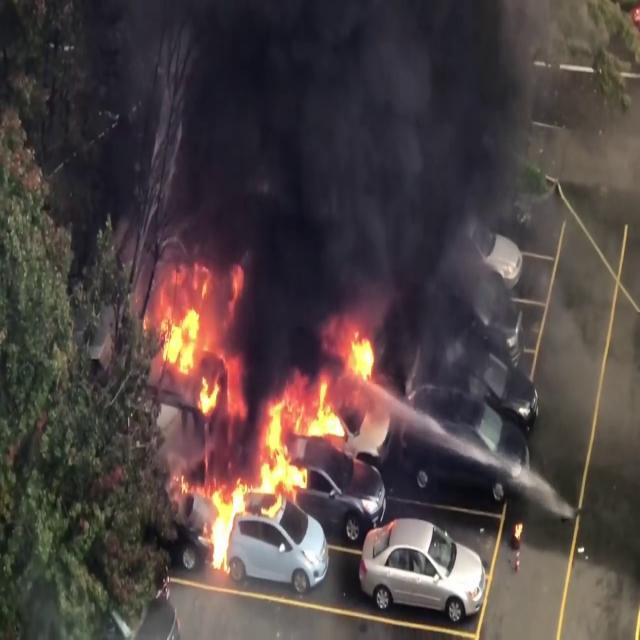Fire: (154, 306, 384, 552), (149, 269, 233, 405), (198, 476, 246, 574)
Smoke: (165, 1, 562, 396)
